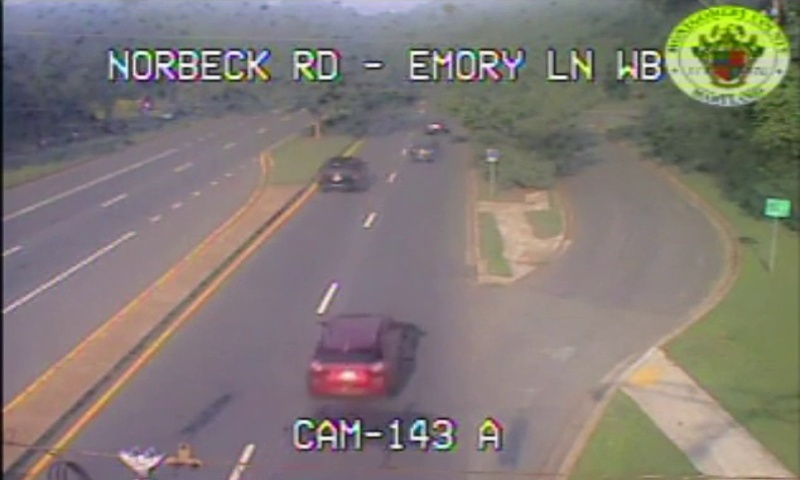car: (310, 315, 394, 397), (317, 156, 362, 192)
